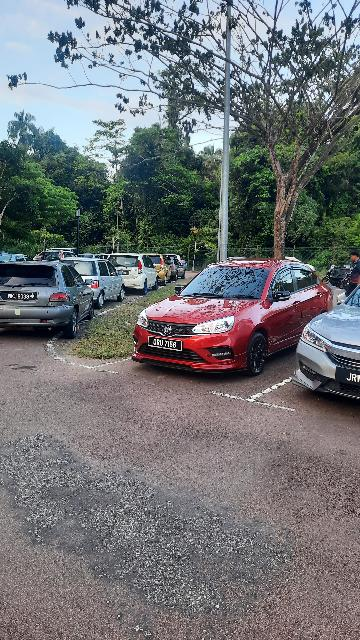License_Plate: (147, 335, 199, 354), (2, 292, 41, 303)
car: (130, 258, 337, 390), (2, 261, 105, 338)
